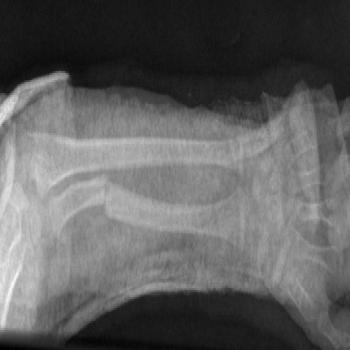Fracture: (97, 163, 117, 226)
